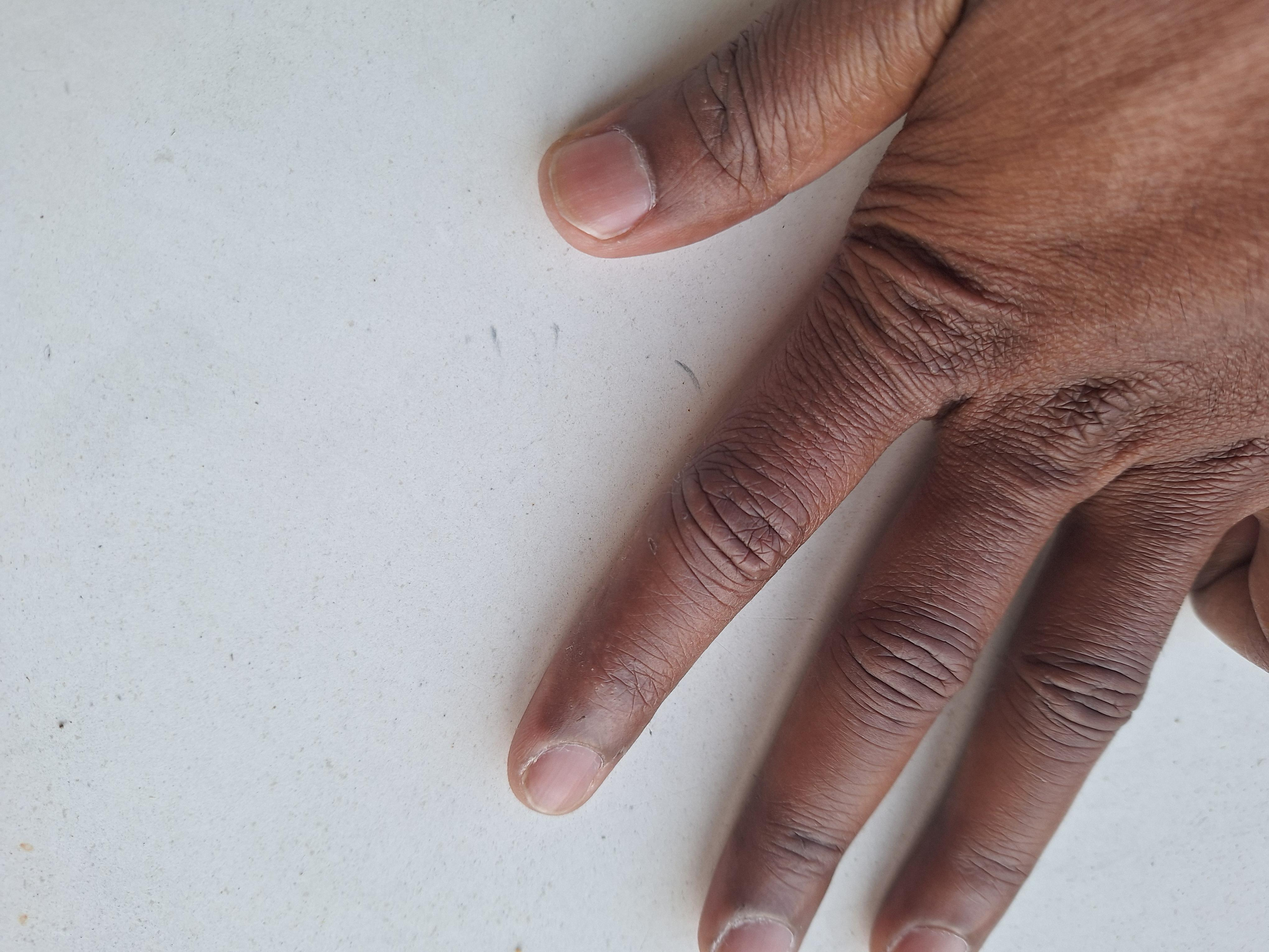Fingernail: (549, 130, 651, 241), (522, 745, 602, 815)
